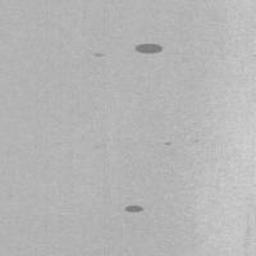Oil spot: (134, 42, 165, 56), (124, 204, 145, 214), (92, 51, 105, 59)
